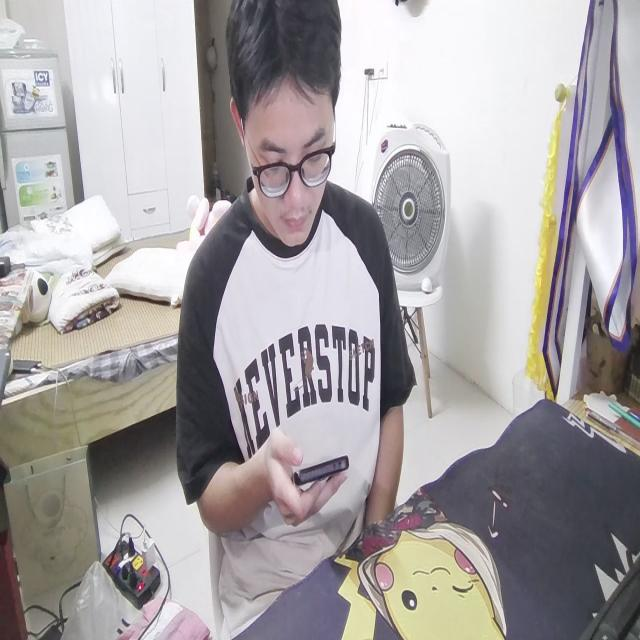phone: (285, 448, 352, 491)
student: (173, 0, 409, 611)
